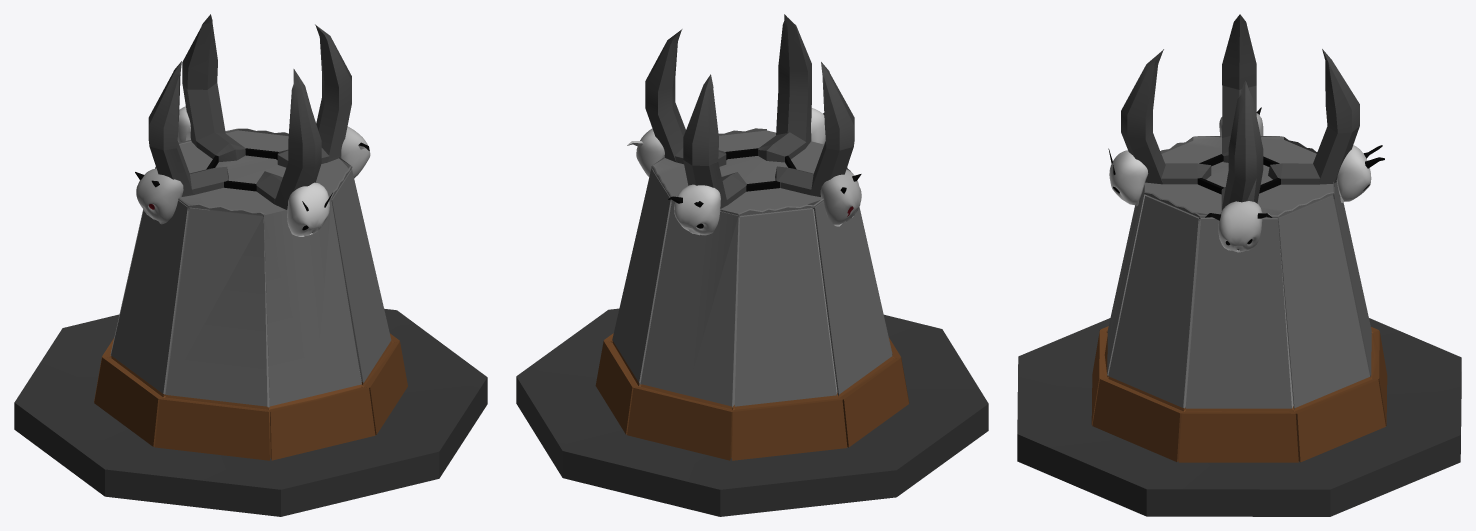
3 renders of one model, left to right at view 1: azimuth 30°, elevation 25°; view 2: azimuth 150°, elevation 25°; view 3: azimuth 270°, elevation 25°, orthographic.
Visible parts, largest first — view 1: Icosphere.002; view 2: Icosphere.002; view 3: Icosphere.002.
Boxes of the visible parts, x1=… form: Icosphere.002: x1=14, y1=14, x2=487, y2=516; Icosphere.002: x1=516, y1=14, x2=988, y2=516; Icosphere.002: x1=1017, y1=14, x2=1461, y2=516.
Bounding box in the file's own units: 293 × 274 × 293.
